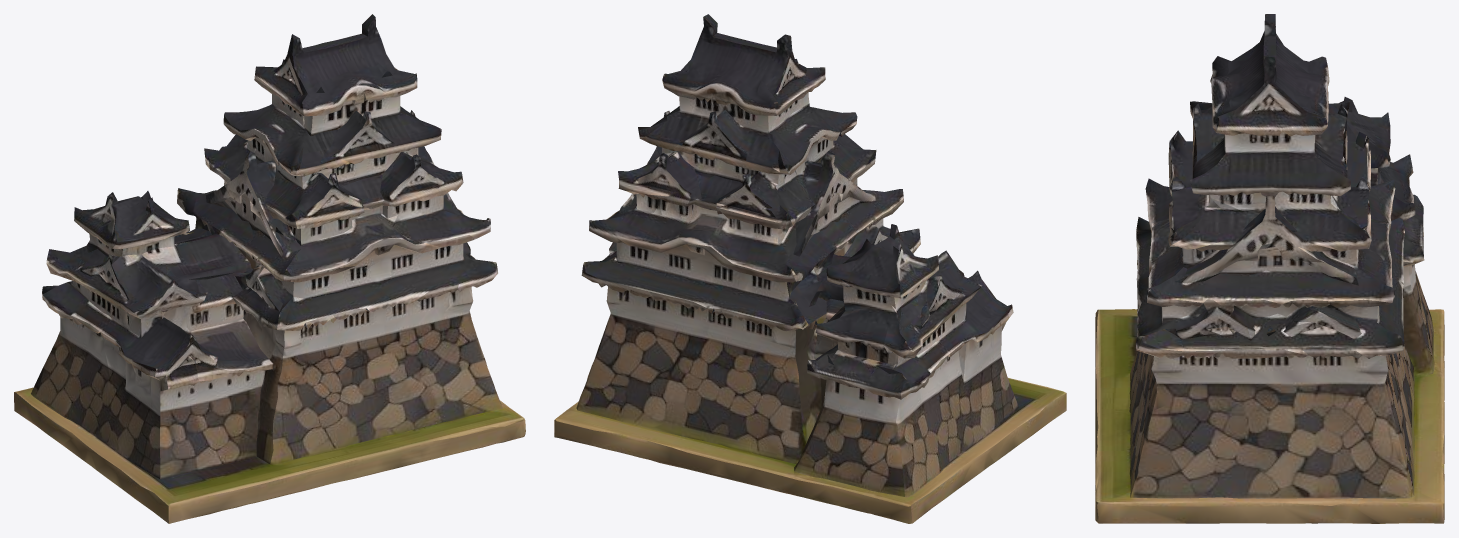
File: himeji-castle.glb
3 renders of one model, left to right at view 1: azimuth 30°, elevation 25°; view 2: azimuth 150°, elevation 25°; view 3: azimuth 270°, elevation 25°, orthographic. The views are drawn at different scales.
Visible parts, largest first — view 1: logan-textured.obj; view 2: logan-textured.obj; view 3: logan-textured.obj.
Boxes of the visible parts, bbox=[...] form: logan-textured.obj: bbox=[14, 14, 525, 523]; logan-textured.obj: bbox=[554, 14, 1066, 523]; logan-textured.obj: bbox=[1095, 14, 1444, 523].
Size of the model in its own units: 0.9789 by 1 by 0.7417.
1 material, 1 textured.
